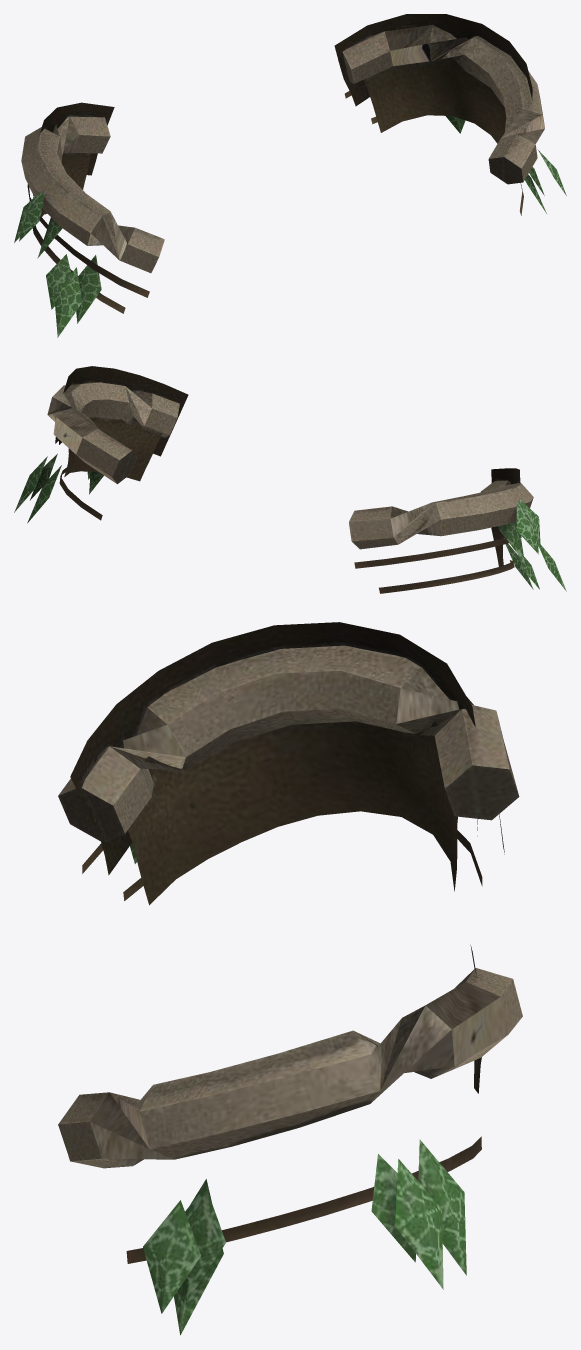
The model's file is Ombreiras_de_Couro_nivel50.glb.
3 views of the same model, one above another, from view 1: azimuth 30°, elevation 25°; view 2: azimuth 150°, elevation 25°; view 3: azimuth 270°, elevation 25° (orthographic). The views are drawn at different scales.
Visible parts, largest first — view 1: ombreiras_de_couro_nivel50; view 2: ombreiras_de_couro_nivel50; view 3: ombreiras_de_couro_nivel50.
Boxes of the visible parts, x1=… form: ombreiras_de_couro_nivel50: x1=14, y1=14, x2=566, y2=337; ombreiras_de_couro_nivel50: x1=14, y1=366, x2=566, y2=593; ombreiras_de_couro_nivel50: x1=58, y1=622, x2=522, y2=1335.
Bounding box in the file's own units: 0.631 × 0.1926 × 0.2613.
Materials: 1 (1 with a texture image).
